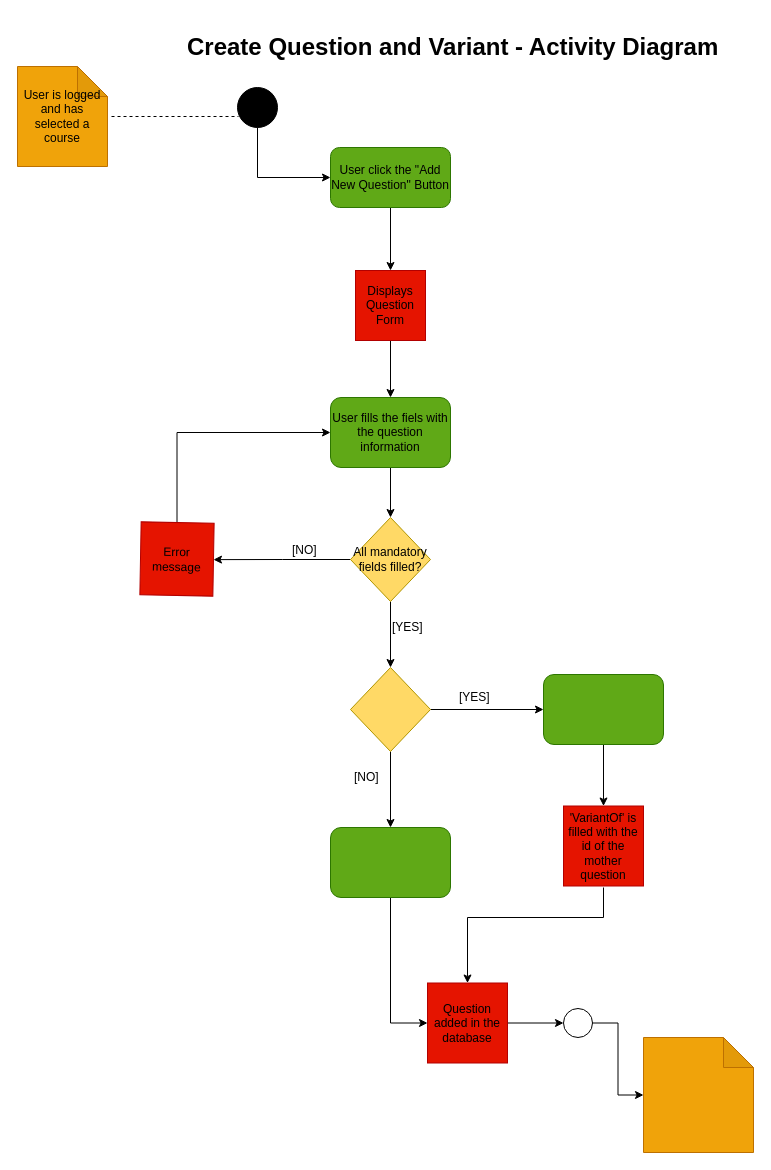
This 771x1170 diagram has some shape labels left out. The shapes that lost their labels are listed below. From the top down, each one's centre as x and y in pixels, then its label:
pixel 390 709: Is the question a variant?
pixel 603 709: User clicks the "Save As Variant" Button
pixel 390 862: User clicks the "Save" Button
pixel 698 1094: User can add another question, modify an existing question or create a test
